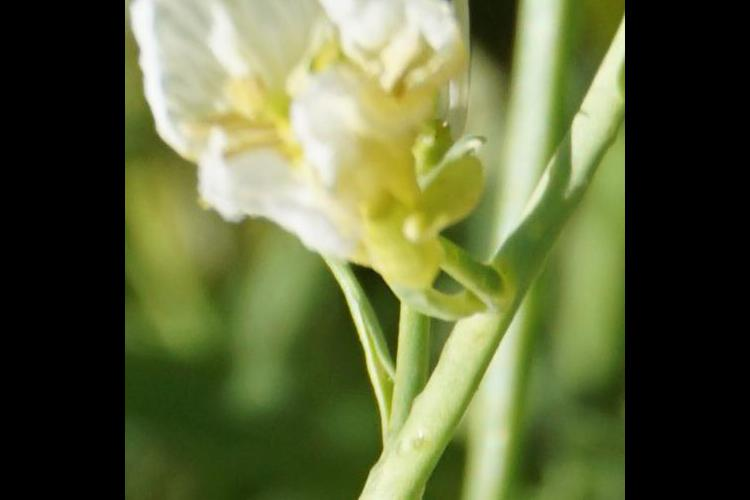white: (173, 1, 482, 325)
